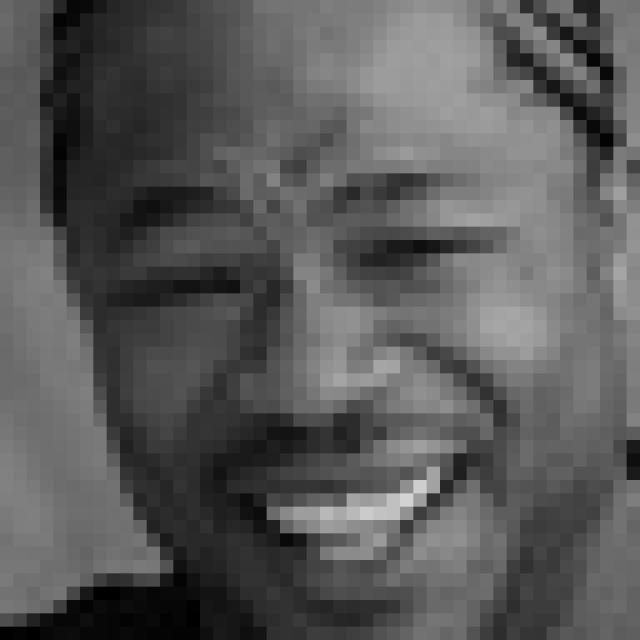happy: (100, 158, 528, 625)
